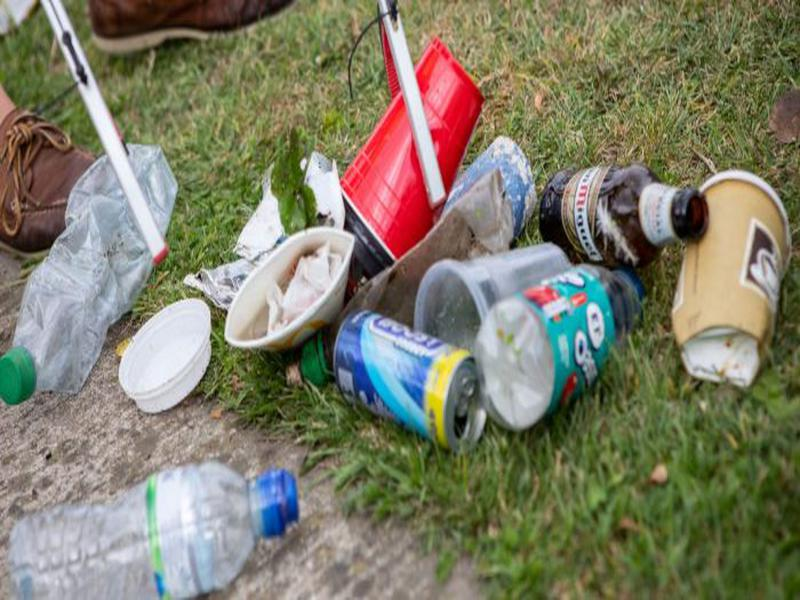bottle: (1, 133, 180, 409), (7, 458, 303, 600), (474, 266, 654, 434), (535, 164, 711, 275)
can: (326, 307, 489, 456)
cup: (337, 36, 487, 264), (671, 163, 793, 394), (216, 225, 357, 354)
